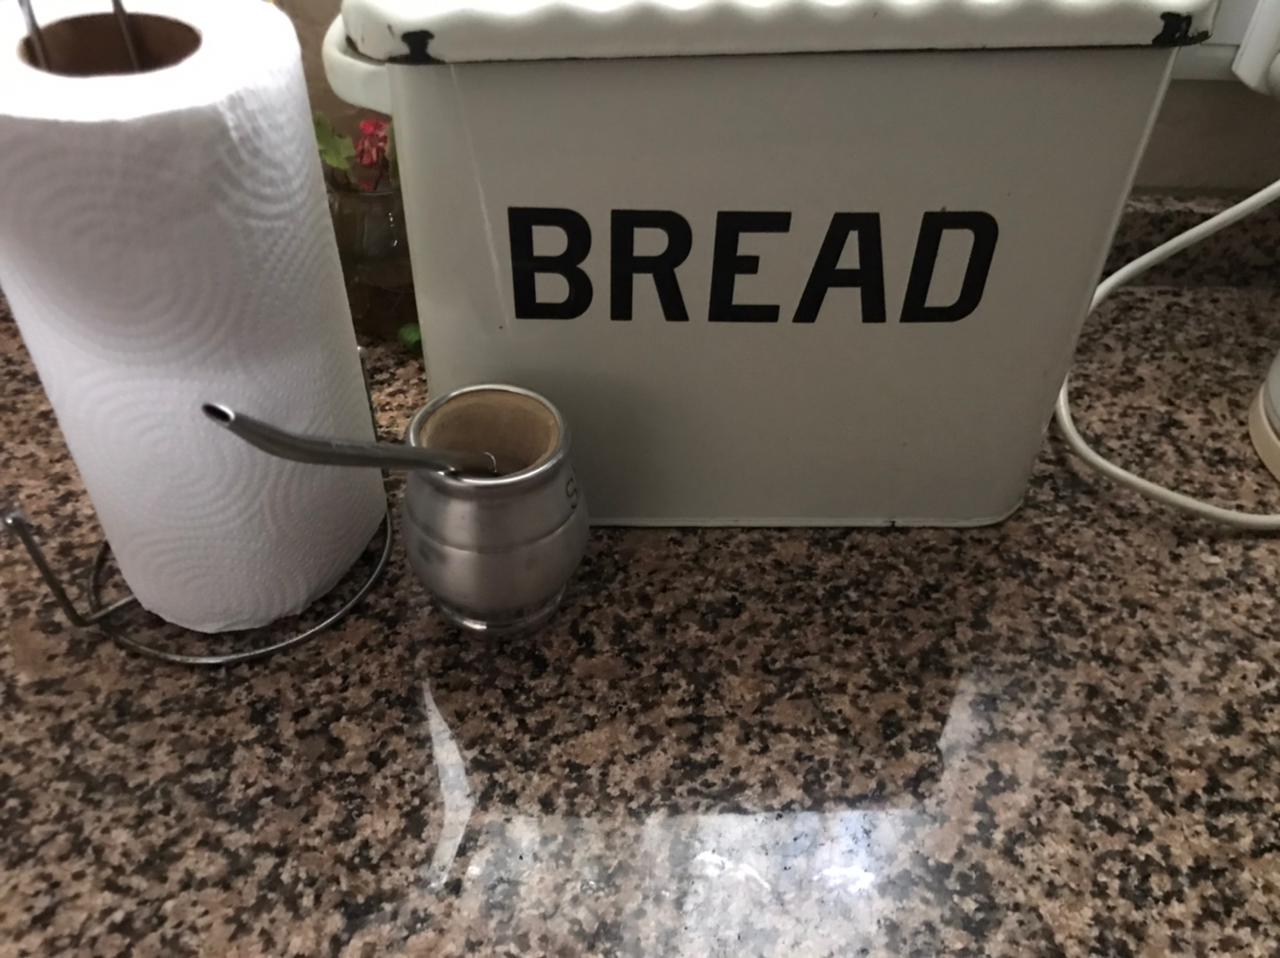mate: (206, 373, 604, 636)
